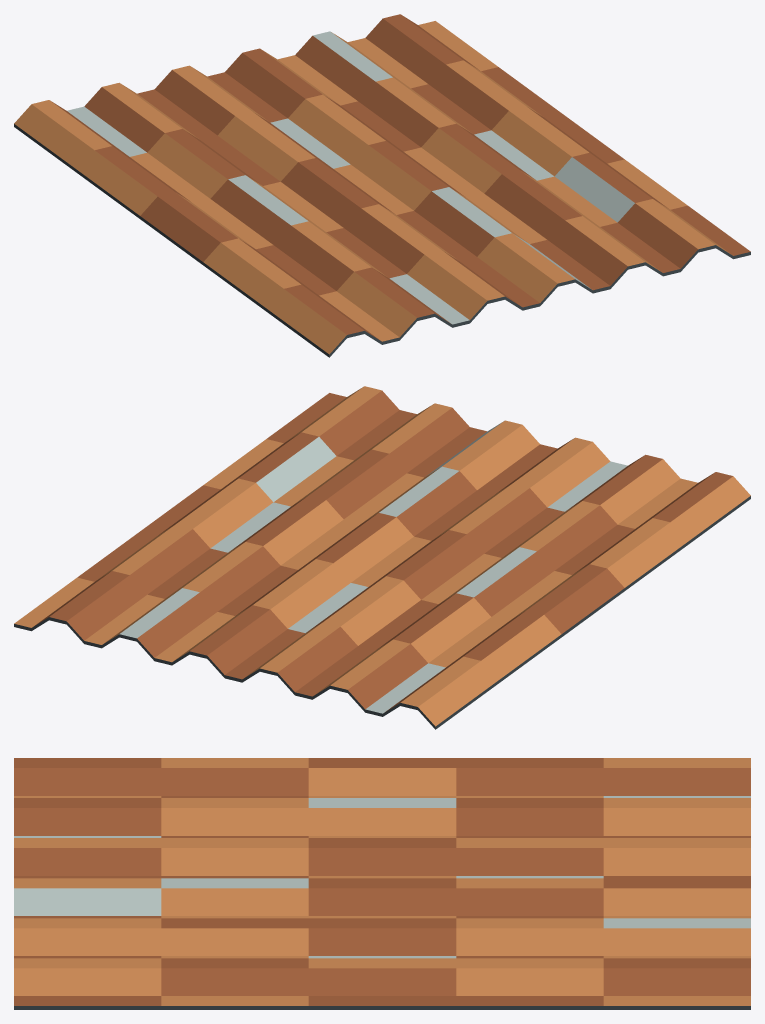
The model's file is Sheet_Rusty.glb.
The picture shows the model from 3 angles, top to bottom: view 1: azimuth 30°, elevation 25°; view 2: azimuth 150°, elevation 25°; view 3: azimuth 270°, elevation 25°; orthographic projection. The views are drawn at different scales.
Visible parts, largest first — view 1: Sheet_Rusty; view 2: Sheet_Rusty; view 3: Sheet_Rusty.
Part boxes in pixels (<box>): Sheet_Rusty: <box>14,14,750,357</box>; Sheet_Rusty: <box>14,386,750,729</box>; Sheet_Rusty: <box>14,758,750,1009</box>.
Size of the model in its own units: 0.81 by 0.034 by 1.05.
